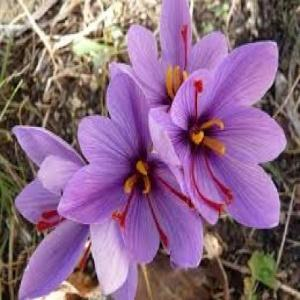Saffron: (66, 80, 202, 271), (154, 39, 280, 239), (6, 124, 136, 298), (107, 7, 232, 108)
